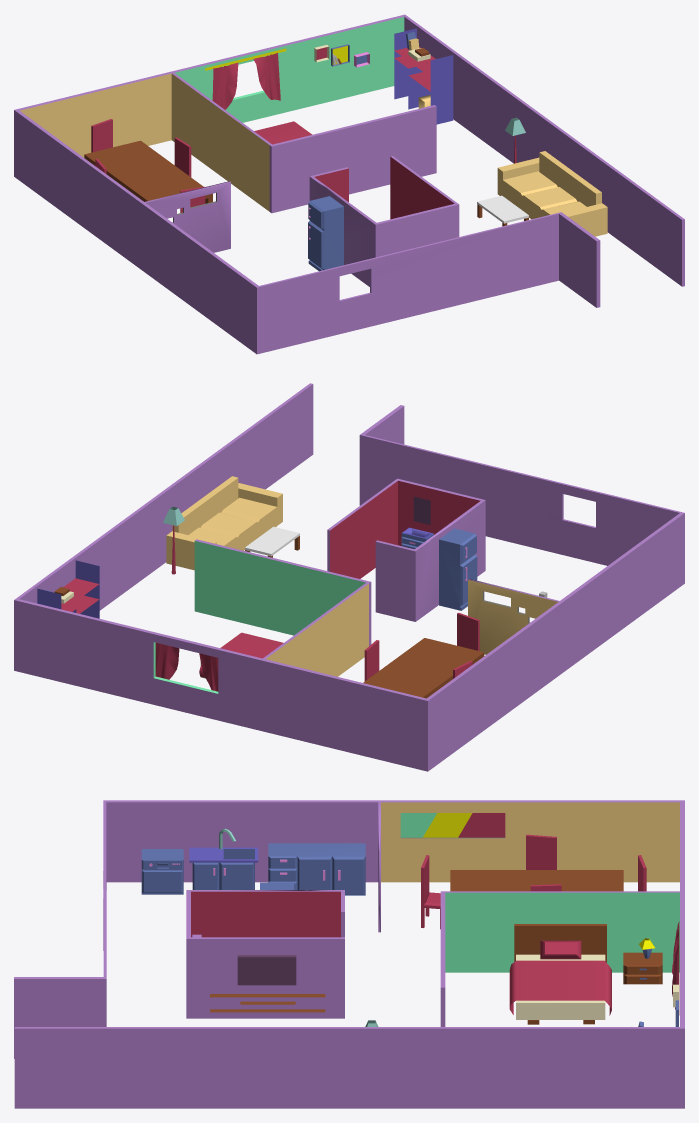
Rendered from house4.obj.
3 views of the same model, one above another, from view 1: azimuth 30°, elevation 25°; view 2: azimuth 150°, elevation 25°; view 3: azimuth 270°, elevation 25° (orthographic). The views are drawn at different scales.
Parts seen in each view (by area): view 1: house2; view 2: house2; view 3: house2.
Part boxes in pixels (box(x1,y1,x2,y2)): house2: box(14, 14, 684, 354); house2: box(14, 383, 684, 771); house2: box(14, 800, 684, 1108).
Size of the model in its own units: 153 by 26.41 by 189.
